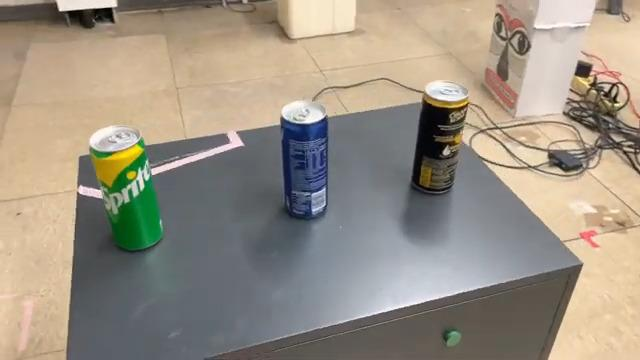OranSoda: (407, 78, 473, 198)
Pepsi: (276, 97, 332, 223)
Sprite: (87, 121, 167, 255)
